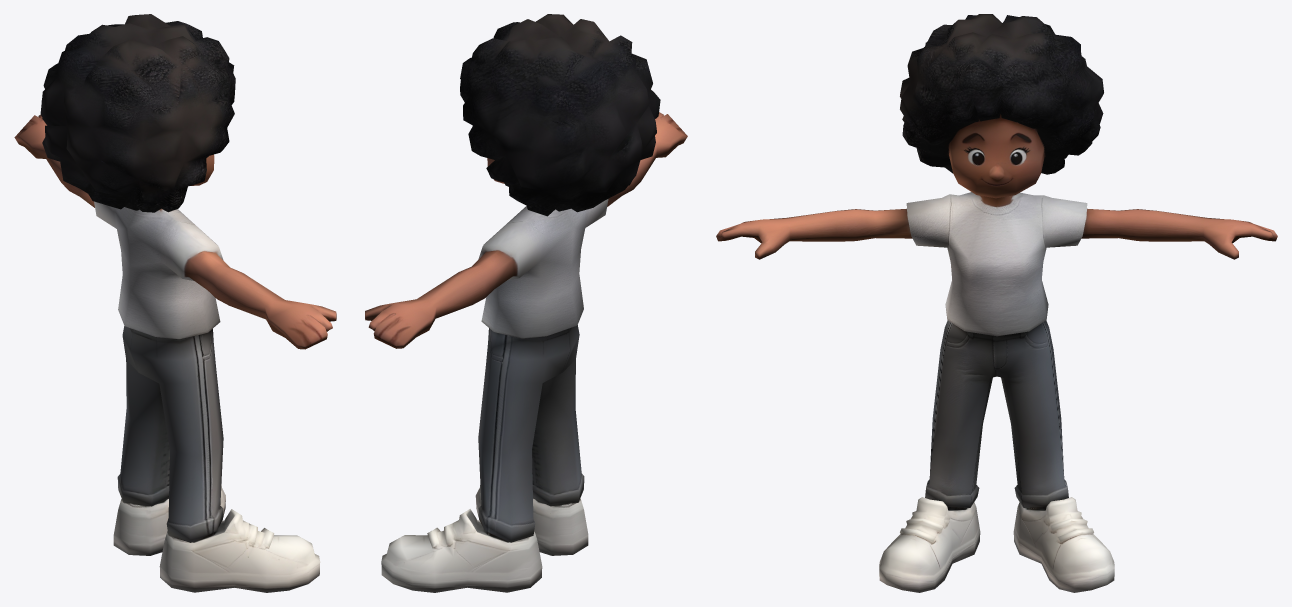
The picture shows the model from 3 angles, left to right: view 1: azimuth 30°, elevation 25°; view 2: azimuth 150°, elevation 25°; view 3: azimuth 270°, elevation 25°; orthographic projection. The views are drawn at different scales.
Visible parts, largest first — view 1: tripo_node_4e4893ee-1215-48b8-83be-5ea877037b64; view 2: tripo_node_4e4893ee-1215-48b8-83be-5ea877037b64; view 3: tripo_node_4e4893ee-1215-48b8-83be-5ea877037b64.
Part boxes in pixels (x1,y1,x2,y2): tripo_node_4e4893ee-1215-48b8-83be-5ea877037b64: (14, 14, 336, 592); tripo_node_4e4893ee-1215-48b8-83be-5ea877037b64: (365, 14, 687, 592); tripo_node_4e4893ee-1215-48b8-83be-5ea877037b64: (716, 14, 1277, 592).
Bounding box in the file's own units: 0.4146 × 0.9995 × 0.9917.
Materials: 1 (1 with a texture image).
